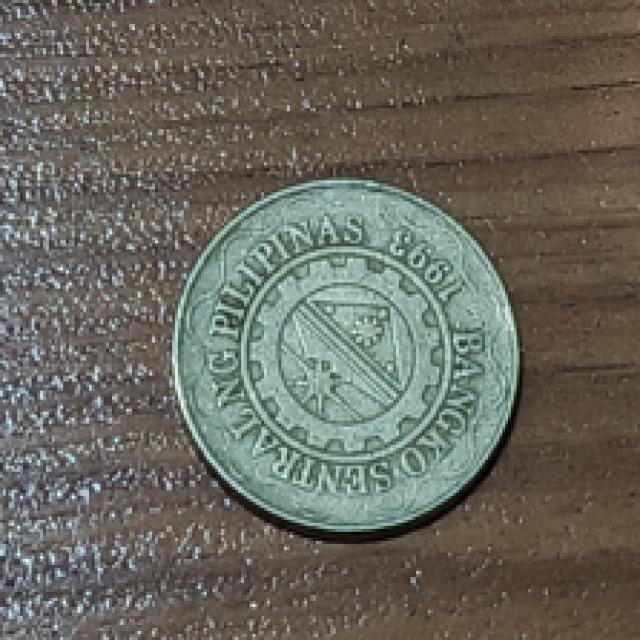5_peso: (175, 180, 517, 532)
